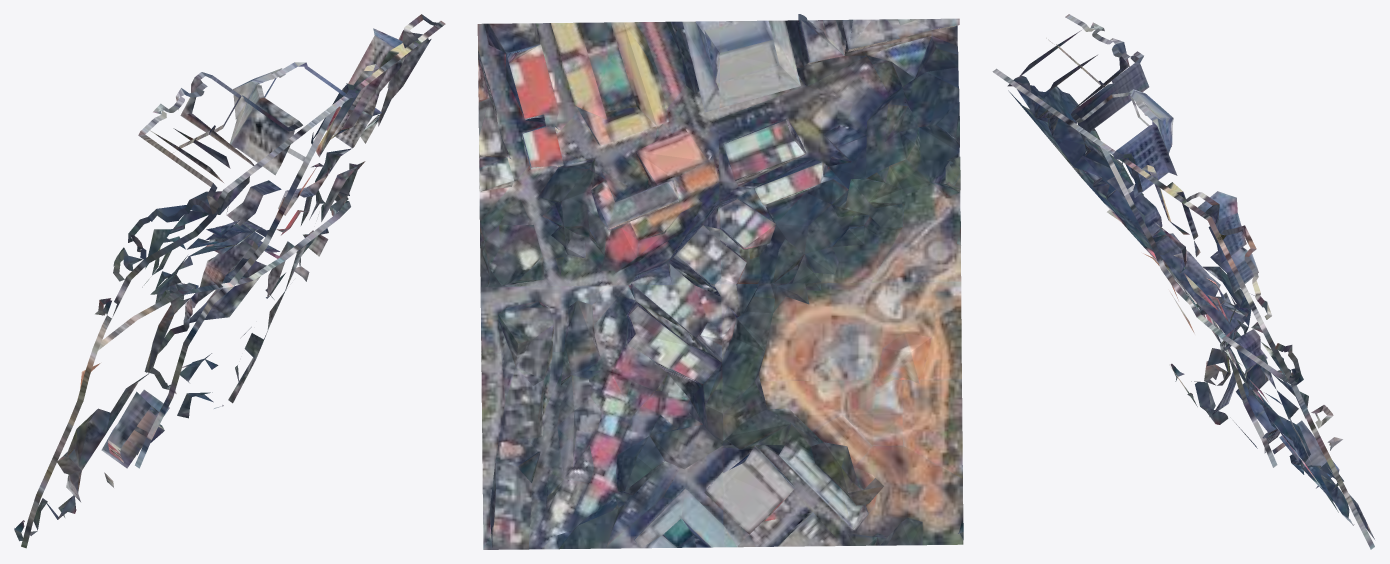
The picture shows the model from 3 angles, left to right: view 1: azimuth 30°, elevation 25°; view 2: azimuth 150°, elevation 25°; view 3: azimuth 270°, elevation 25°; orthographic projection. The views are drawn at different scales.
Size of the model in its own units: 314 by 307 by 258.
Materials: 2 (2 with a texture image).
